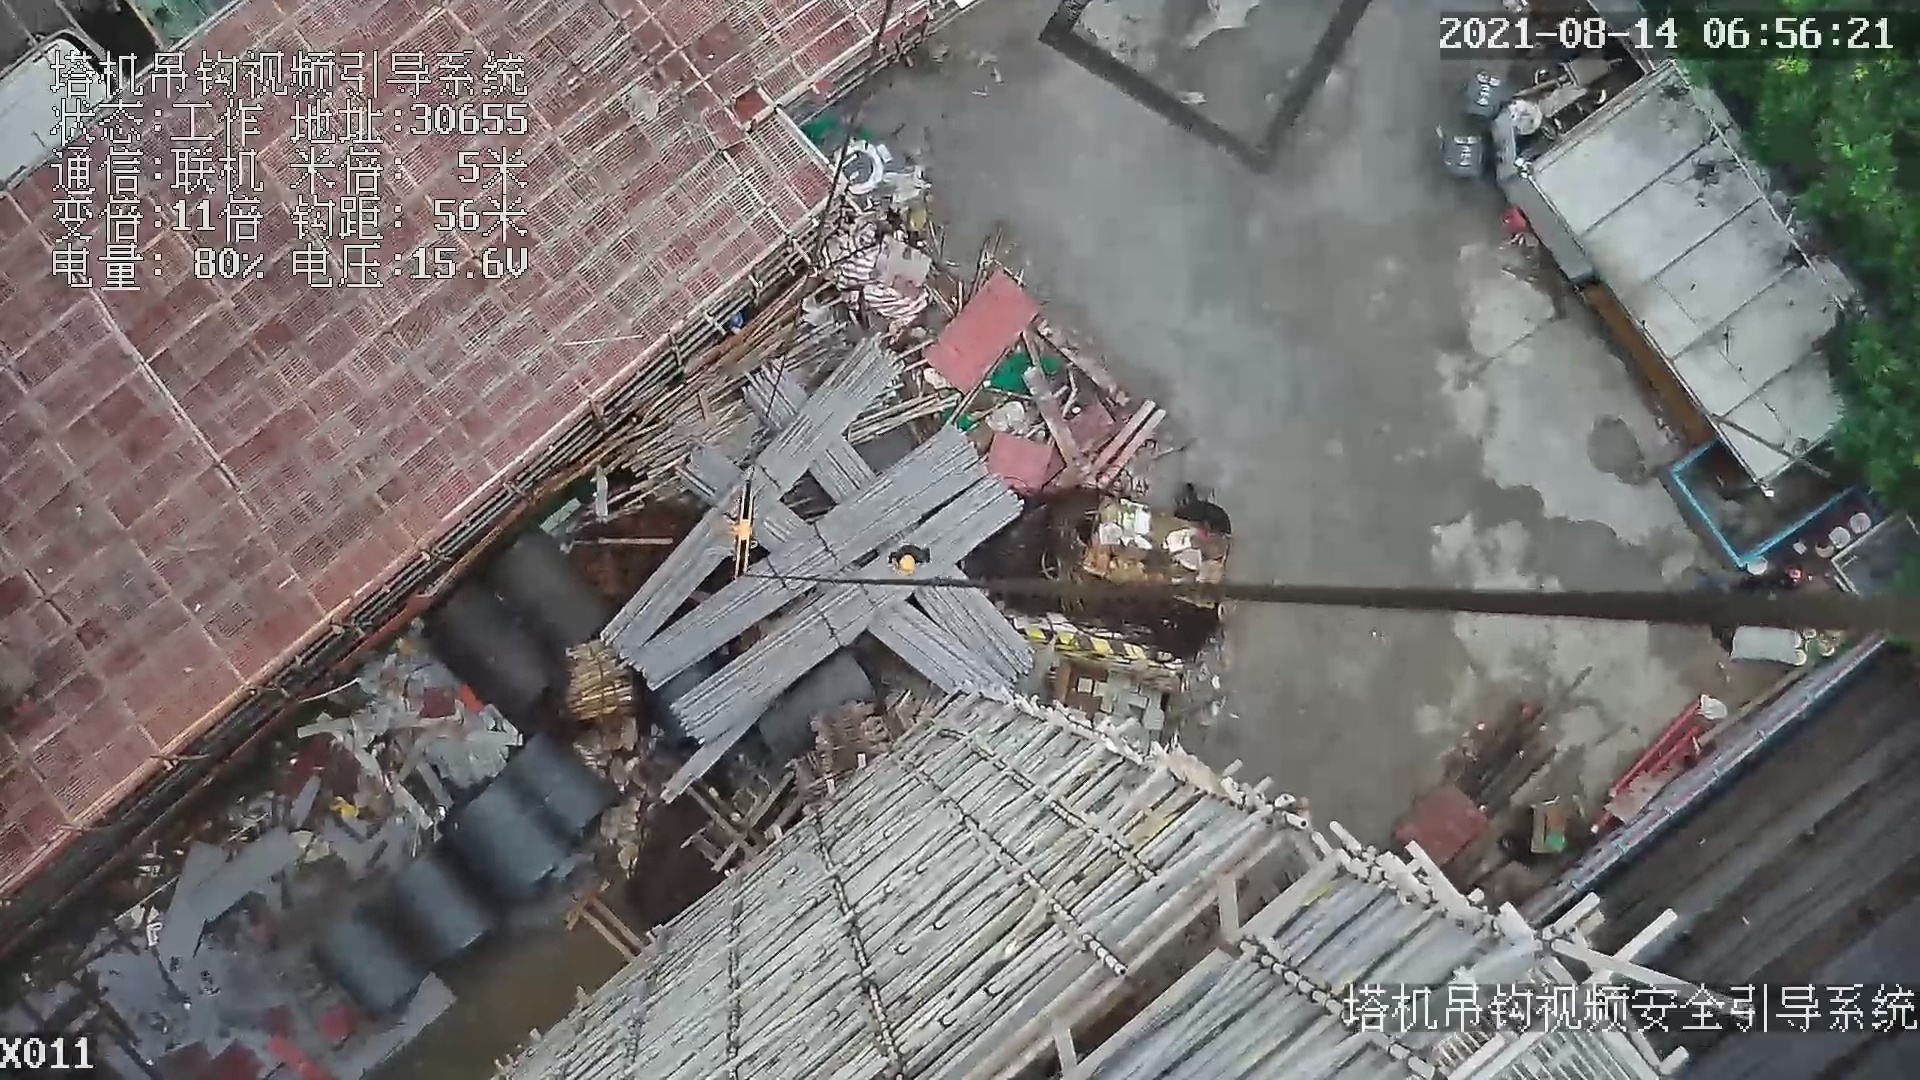helmet: (899, 555, 916, 575)
hook: (733, 486, 764, 587)
person: (888, 546, 935, 571)
rebar: (626, 426, 989, 691), (601, 337, 900, 659), (672, 476, 1023, 745), (911, 566, 1036, 680), (867, 601, 1009, 698)
wood: (566, 660, 634, 721)
